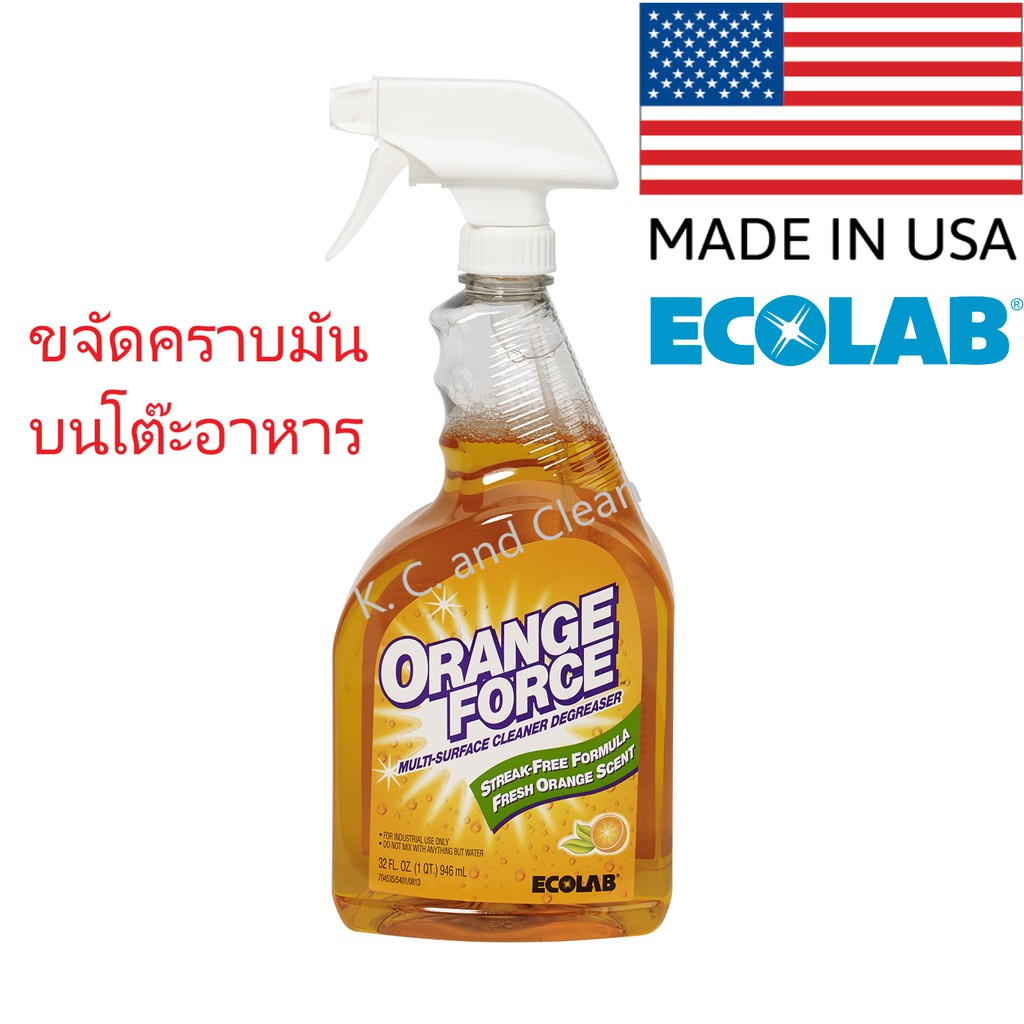Cleaning_solution: (303, 58, 692, 954)
